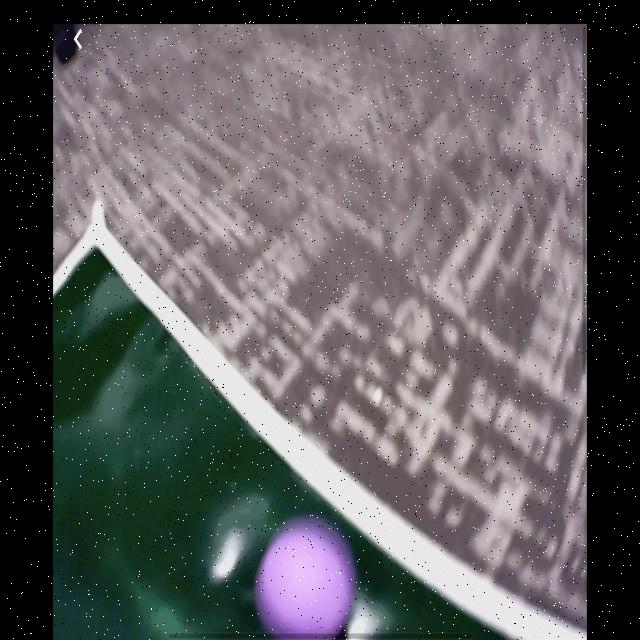ball: (254, 515, 358, 639)
